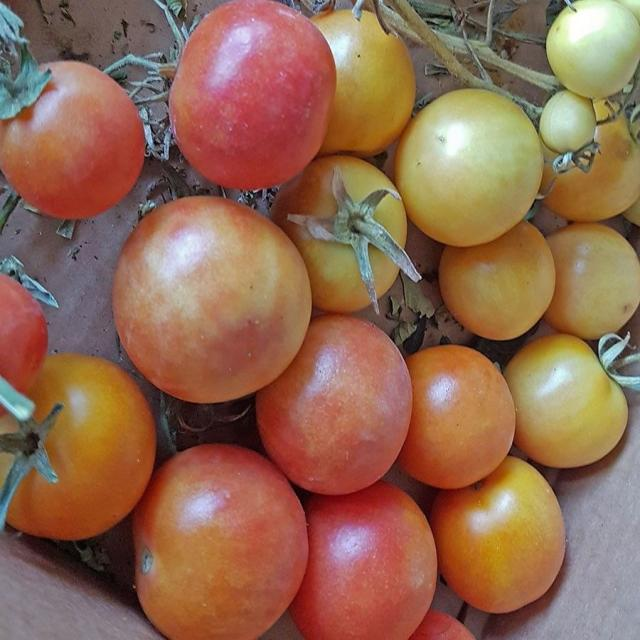level 2: (546, 0, 640, 98), (540, 92, 596, 152)
level 4: (394, 88, 546, 246), (431, 455, 572, 613), (267, 157, 409, 311), (286, 9, 418, 163), (505, 335, 631, 471), (436, 222, 558, 338), (532, 104, 640, 219), (534, 223, 640, 334)
level 5: (109, 194, 313, 404), (137, 441, 311, 640), (0, 356, 158, 541), (256, 314, 413, 499), (282, 479, 441, 640), (0, 61, 144, 215), (393, 343, 509, 490), (0, 269, 51, 412), (338, 602, 488, 640)
level 6: (168, 2, 334, 189)
